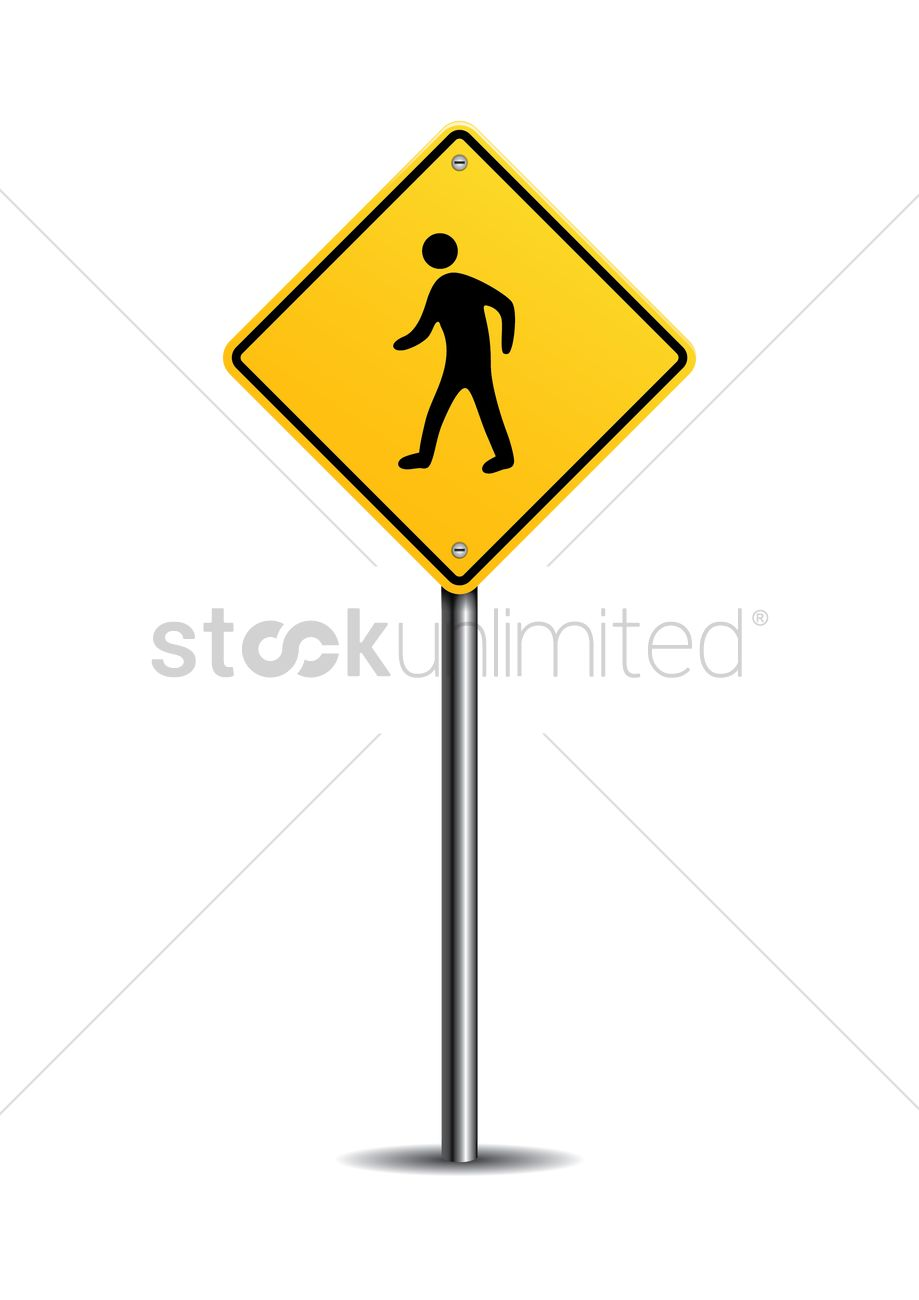pedestrian: (221, 122, 694, 597)
